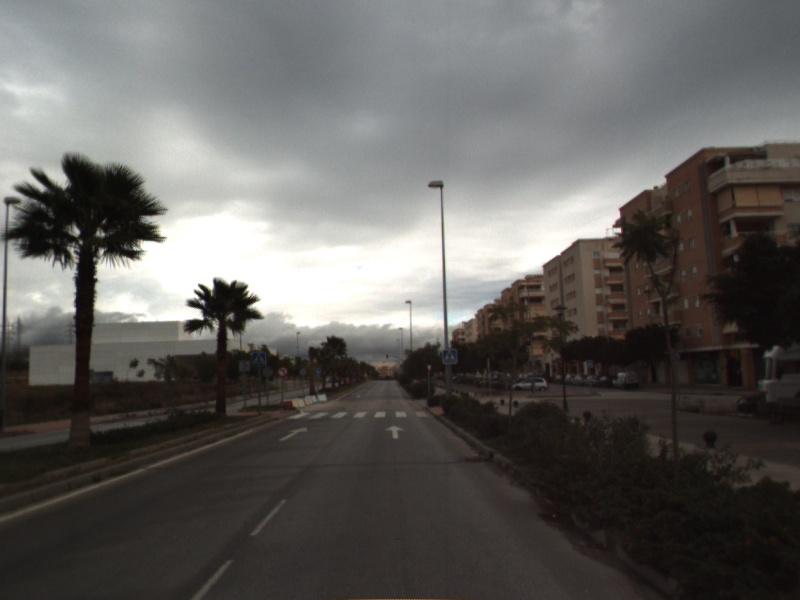STRAIGHT: (277, 425, 309, 443), (383, 423, 406, 440)
